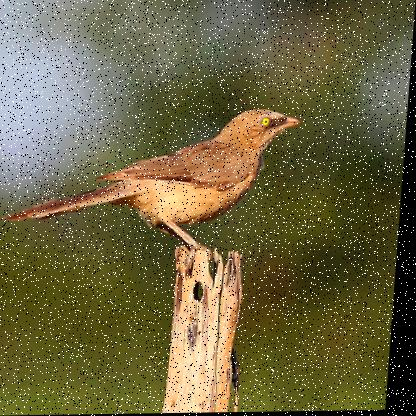Burung: (4, 110, 303, 276)
